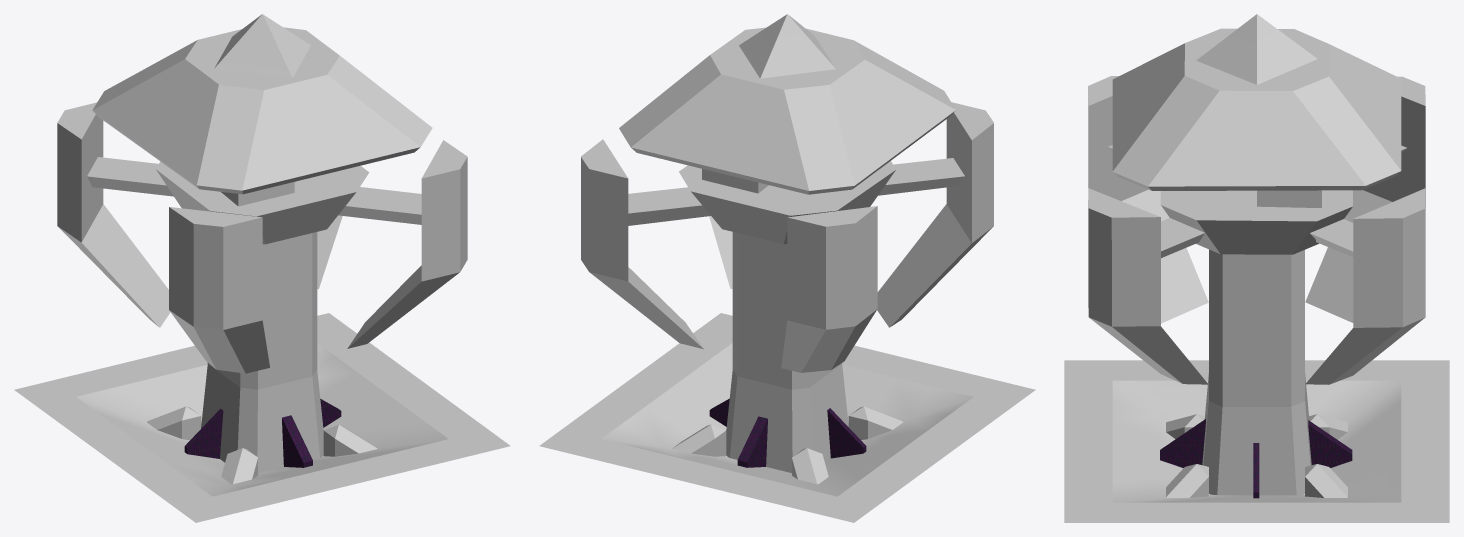
Rendered from cbtowe01.FBX.
3 views of the same model, side by side, from view 1: azimuth 30°, elevation 25°; view 2: azimuth 150°, elevation 25°; view 3: azimuth 270°, elevation 25° (orthographic). The views are drawn at different scales.
Visible parts, largest first — view 1: terrain, tower4, obj1, cbtowe01, glow1 (×2), nodule1, tower3; view 2: terrain, tower4, obj1, cbtowe01, glow1 (×2), nodule1, tower3; view 3: terrain, tower4, cbtowe01, obj1, glow1 (×2), tower3, nodule1.
Boxes of the visible parts, left/top/right/bottom form: terrain: left=14, top=313, right=510, bottom=522; tower4: left=92, top=27, right=432, bottom=194; obj1: left=57, top=102, right=467, bottom=373; cbtowe01: left=147, top=232, right=377, bottom=484; glow1 (×2): left=81, top=114, right=421, bottom=467; nodule1: left=87, top=14, right=421, bottom=224; tower3: left=156, top=161, right=369, bottom=244; terrain: left=539, top=313, right=1035, bottom=522; tower4: left=619, top=27, right=955, bottom=194; obj1: left=581, top=102, right=993, bottom=372; cbtowe01: left=672, top=232, right=902, bottom=484; glow1 (×2): left=628, top=112, right=971, bottom=467; nodule1: left=628, top=14, right=964, bottom=225; tower3: left=679, top=161, right=895, bottom=244; terrain: left=1064, top=360, right=1449, bottom=522; tower4: left=1112, top=28, right=1401, bottom=190; cbtowe01: left=1166, top=249, right=1347, bottom=497; obj1: left=1088, top=76, right=1425, bottom=384; glow1 (×2): left=1088, top=96, right=1425, bottom=498; tower3: left=1160, top=190, right=1352, bottom=254; nodule1: left=1108, top=14, right=1406, bottom=257.
Bounding box in the file's own units: 64 × 85.41 × 64.
